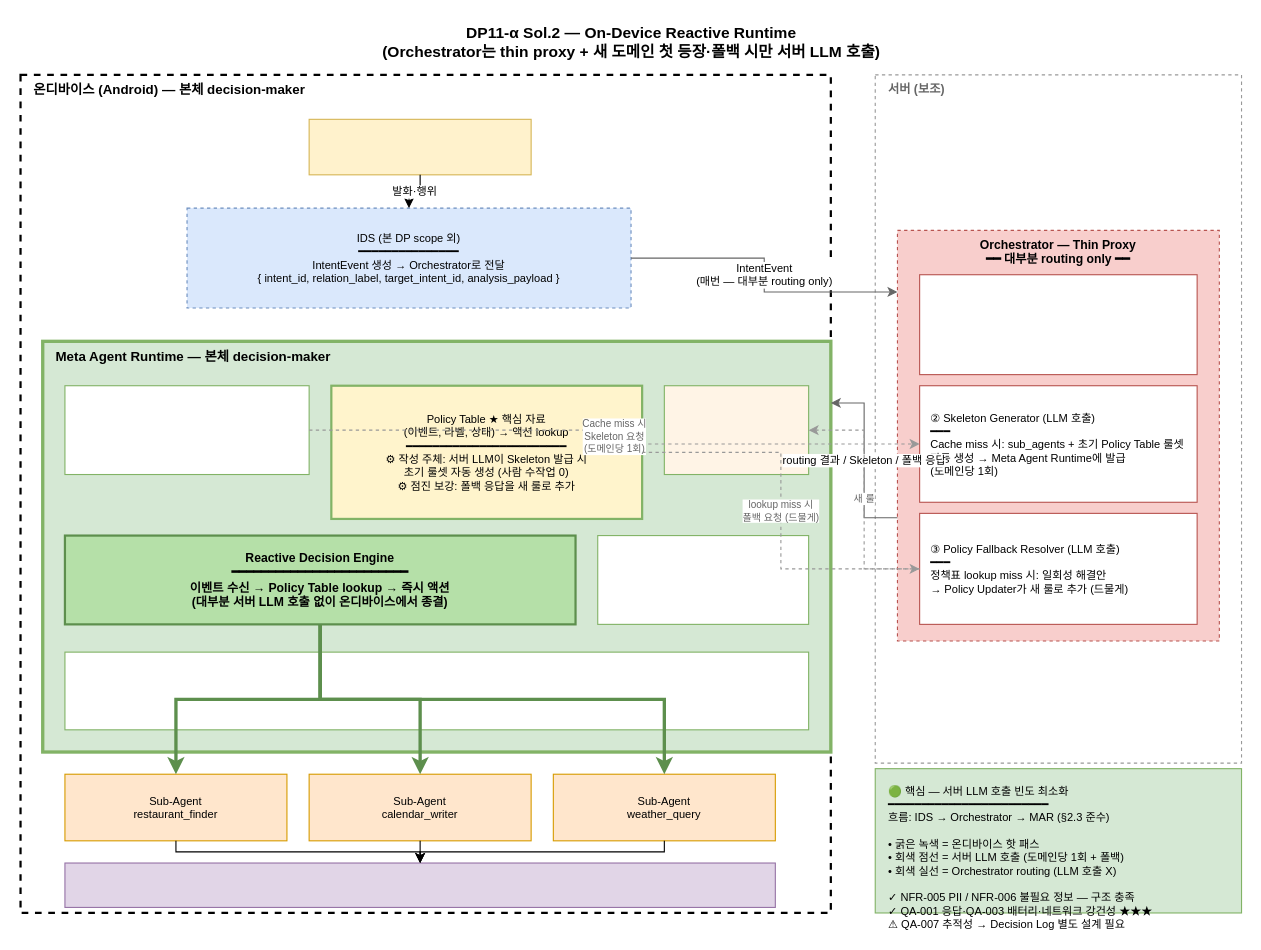
Some shapes in this 1261 by 950 pixel diagram are drawn without their labels. The shapes that lost their labels are listed below. From the top down, each one's centre as x and y in pixels, then its label:
point 419,146: User (발화·행위)
point 1058,324: ① Routing (대부분 IntentEvent) ━━━ Skeleton Cache 상태 확인 후 단순 전달 서버 LLM 호출 없음
point 186,430: Skeleton Cache 도메인별 Skeleton 영속 보관 (Orchestrator 발급, Cache hit 시 LLM 호출 X)
point 736,430: Policy Updater 폴백 응답을 새 룰로 추가
point 703,579: Resource Coordinator (자원 lease 직렬화)
point 436,690: Event Log + Decision Log (영속 — 회복용 + QA-007 추적성 보강용)
point 419,884: Local Tools / 외부 서비스 API / DPA / A2A Transport
